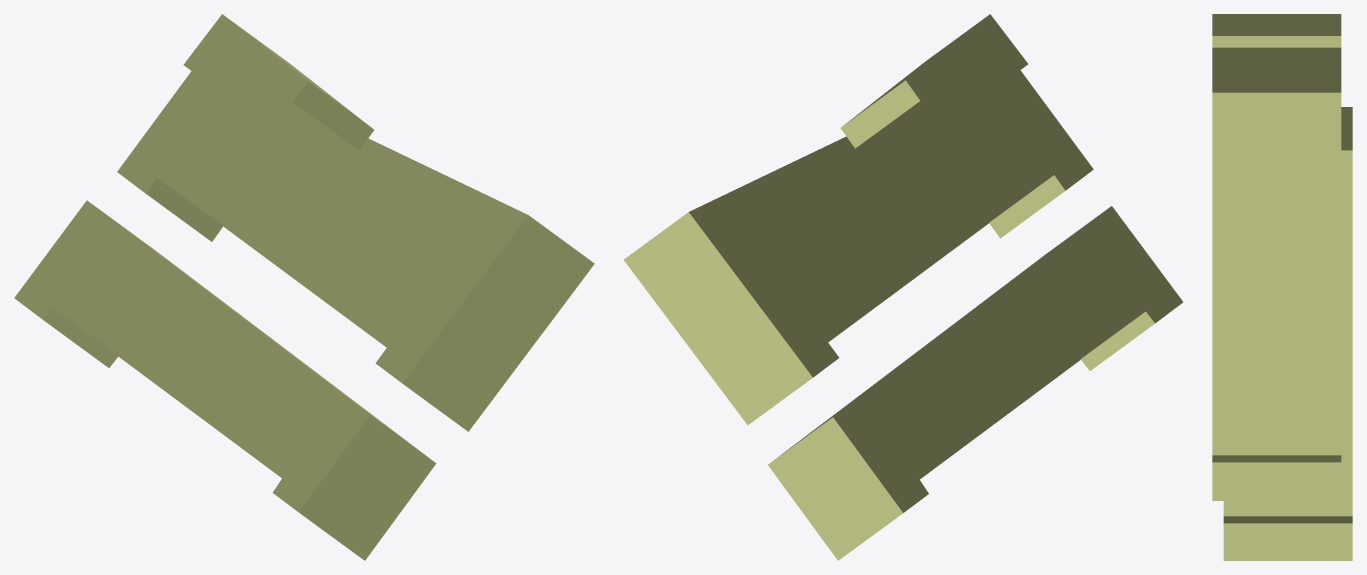
3 views of the same model, side by side, from view 1: azimuth 30°, elevation 25°; view 2: azimuth 150°, elevation 25°; view 3: azimuth 270°, elevation 25° (orthographic). The views are drawn at different scales.
Parts seen in each view (by area): view 1: 0_0_1_3_1_1_2_1_3; view 2: 0_0_1_3_1_1_2_1_3; view 3: 0_0_1_3_1_1_2_1_3.
Part boxes in pixels (x1=…): 0_0_1_3_1_1_2_1_3: x1=14, y1=14, x2=594, y2=560; 0_0_1_3_1_1_2_1_3: x1=624, y1=14, x2=1182, y2=560; 0_0_1_3_1_1_2_1_3: x1=1212, y1=14, x2=1352, y2=560.
Bounding box in the file's own units: 39.85 × 39.16 × 9.8.
